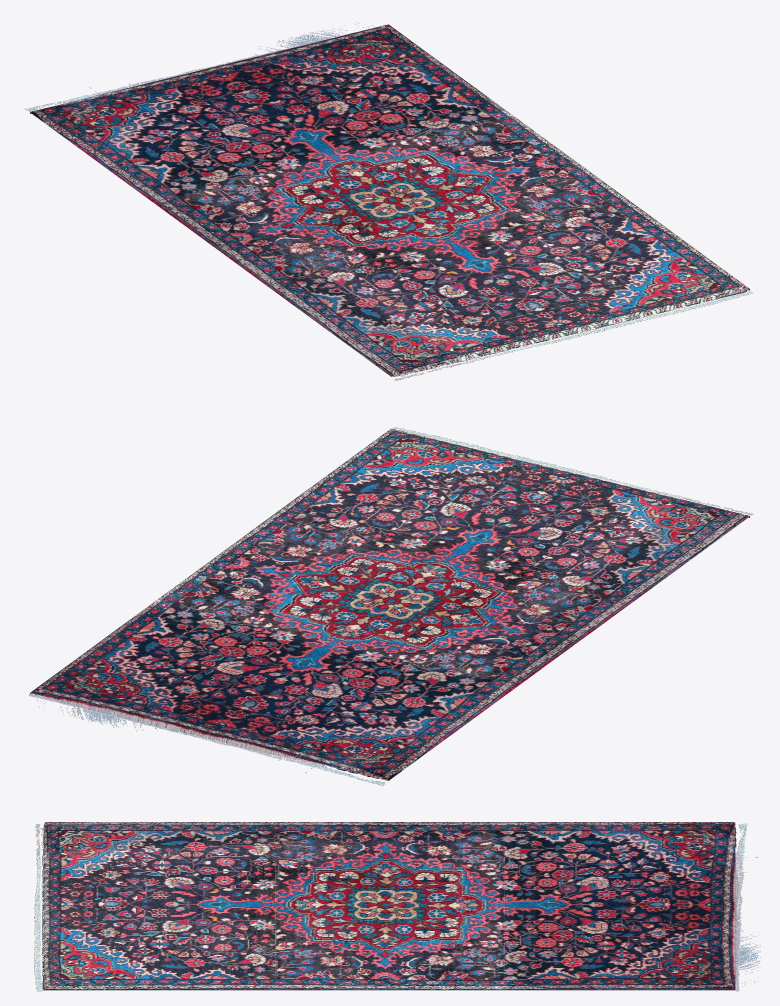
The model's file is jozan-a6237-android.glb.
3 renders of one model, top to bottom at view 1: azimuth 30°, elevation 25°; view 2: azimuth 150°, elevation 25°; view 3: azimuth 270°, elevation 25°, orthographic. The views are drawn at different scales.
Parts seen in each view (by area): view 1: rug; view 2: rug; view 3: rug.
Boxes of the visible parts, x1,y1,x2,y2 form: rug: (24, 22, 753, 380); rug: (29, 427, 753, 786); rug: (34, 822, 760, 991).
Bounding box in the file's own units: 1.04 × 0.0122 × 1.97.
Materials: 5 (4 with a texture image).
